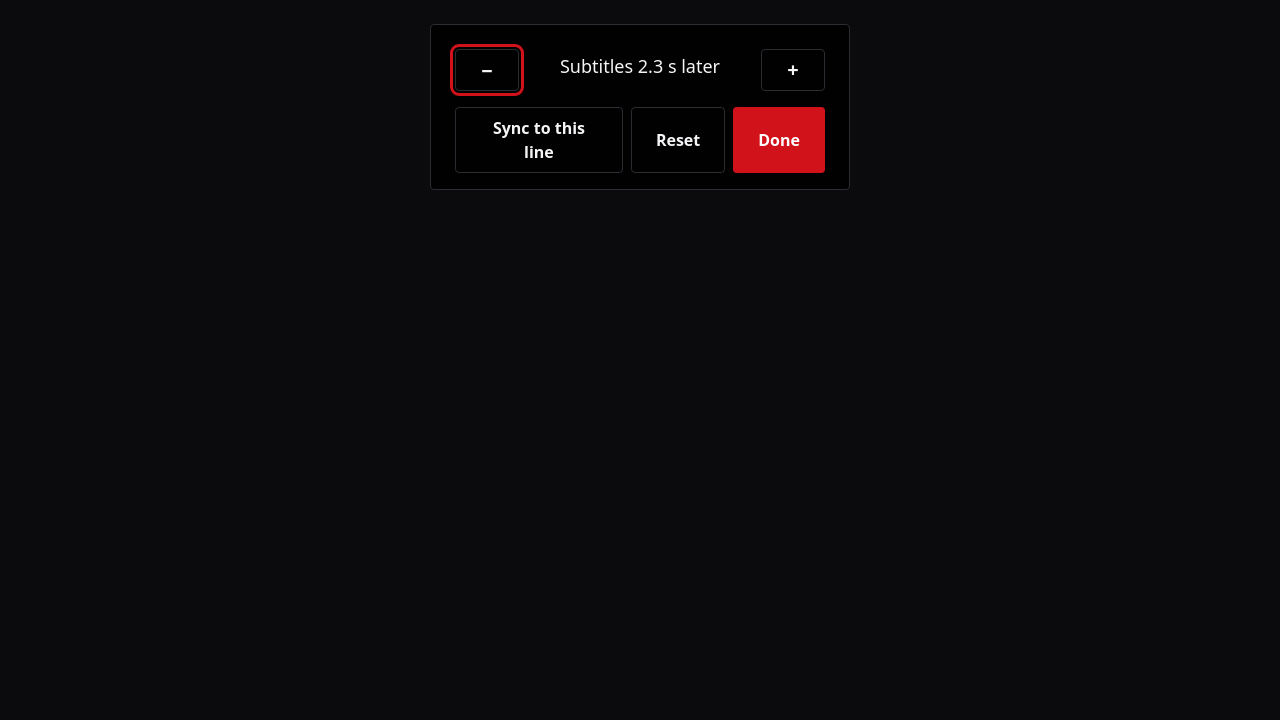
Test: Reset and Sync to this line › puts the subtitles back in sync
The width and height of the screenshot is (1280, 720).
Click the button "Reset".
click(678, 140)  # box x1=631 y1=107 x2=725 y2=173
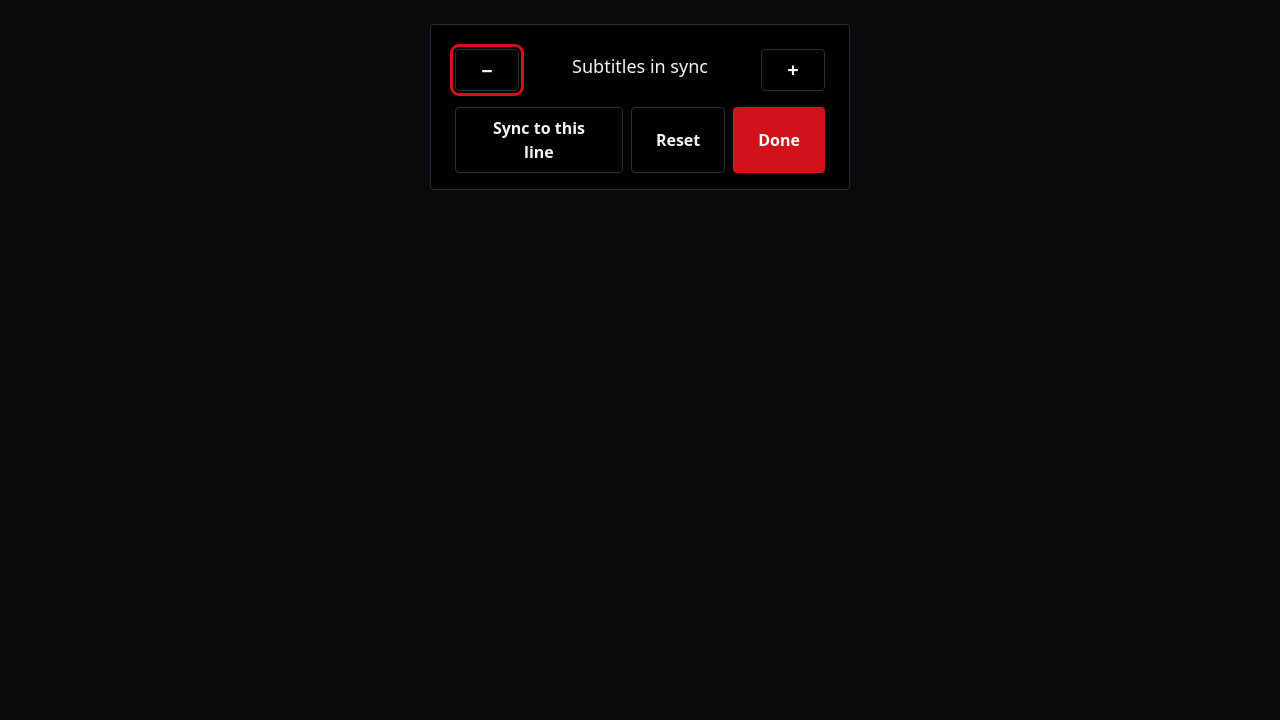
Now the message "Subtitles in sync" is shown, box x1=572 y1=54 x2=708 y2=78
